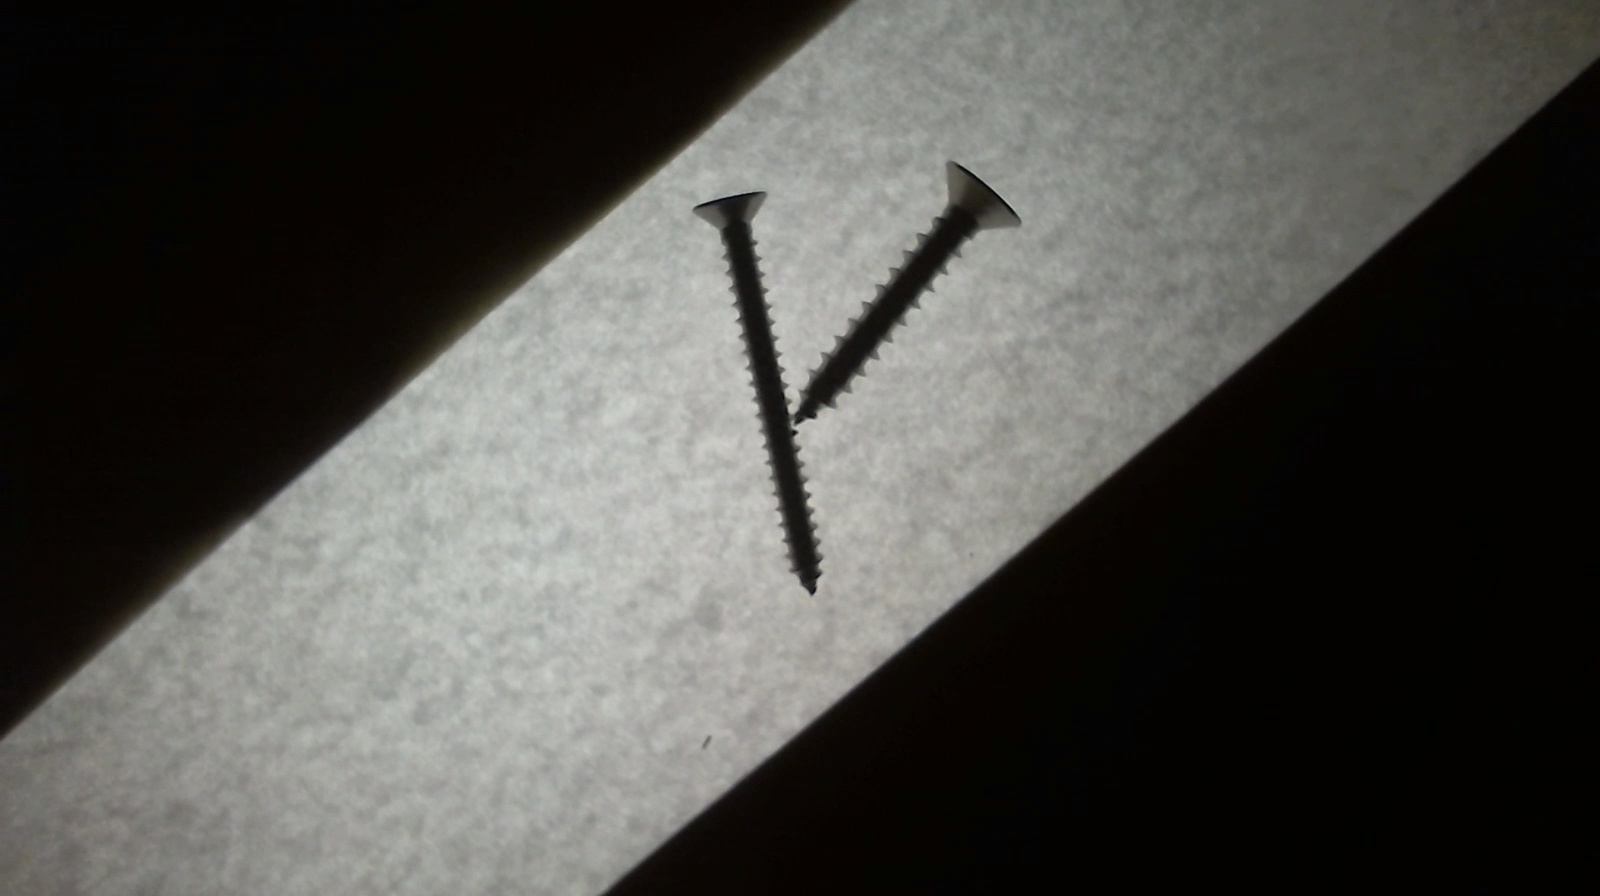S001: (784, 152, 1027, 436)
S002: (690, 187, 836, 604)
